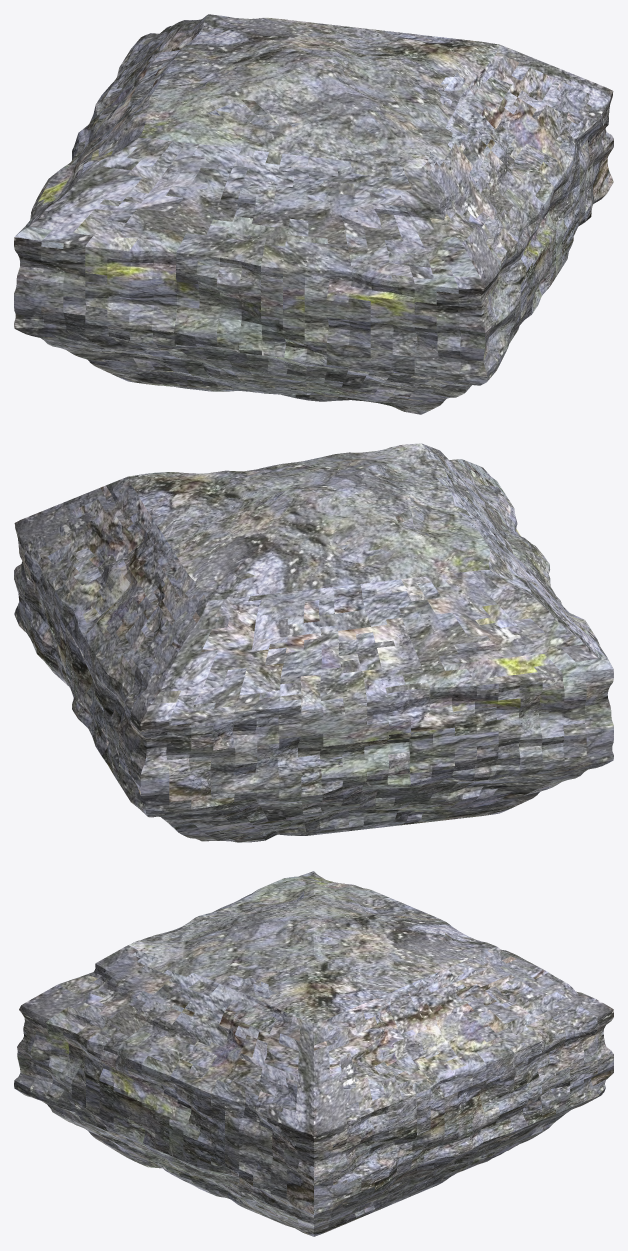
Rendered from Rock2.fbx.
3 views of the same model, one above another, from view 1: azimuth 30°, elevation 25°; view 2: azimuth 150°, elevation 25°; view 3: azimuth 270°, elevation 25° (orthographic). The views are drawn at different scales.
Parts seen in each view (by area): view 1: rock.004; view 2: rock.004; view 3: rock.004.
Part boxes in pixels (bbox=[...]): rock.004: bbox=[14, 14, 613, 414]; rock.004: bbox=[14, 443, 613, 842]; rock.004: bbox=[14, 871, 613, 1236].
Bounding box in the file's own units: 7.79 × 3.42 × 7.79.
